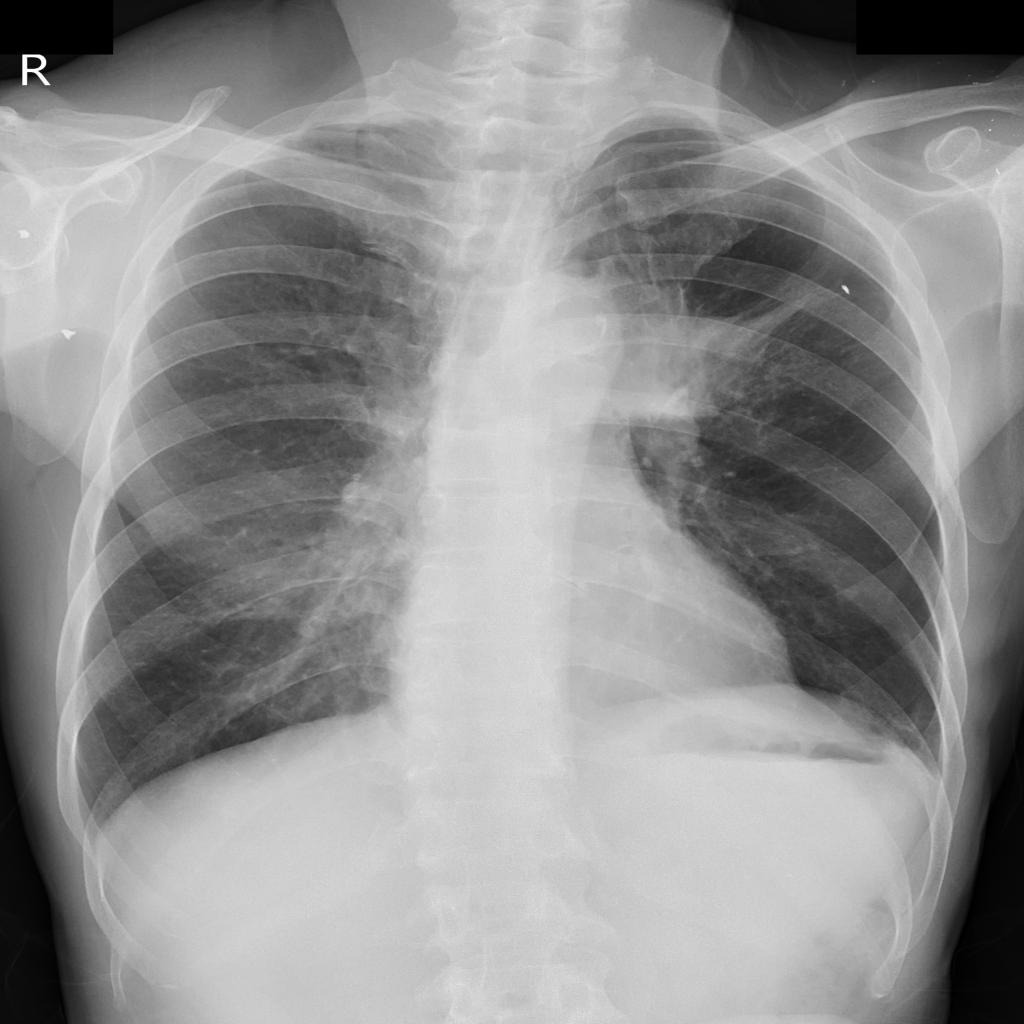Nodule: (608, 315, 720, 415)
